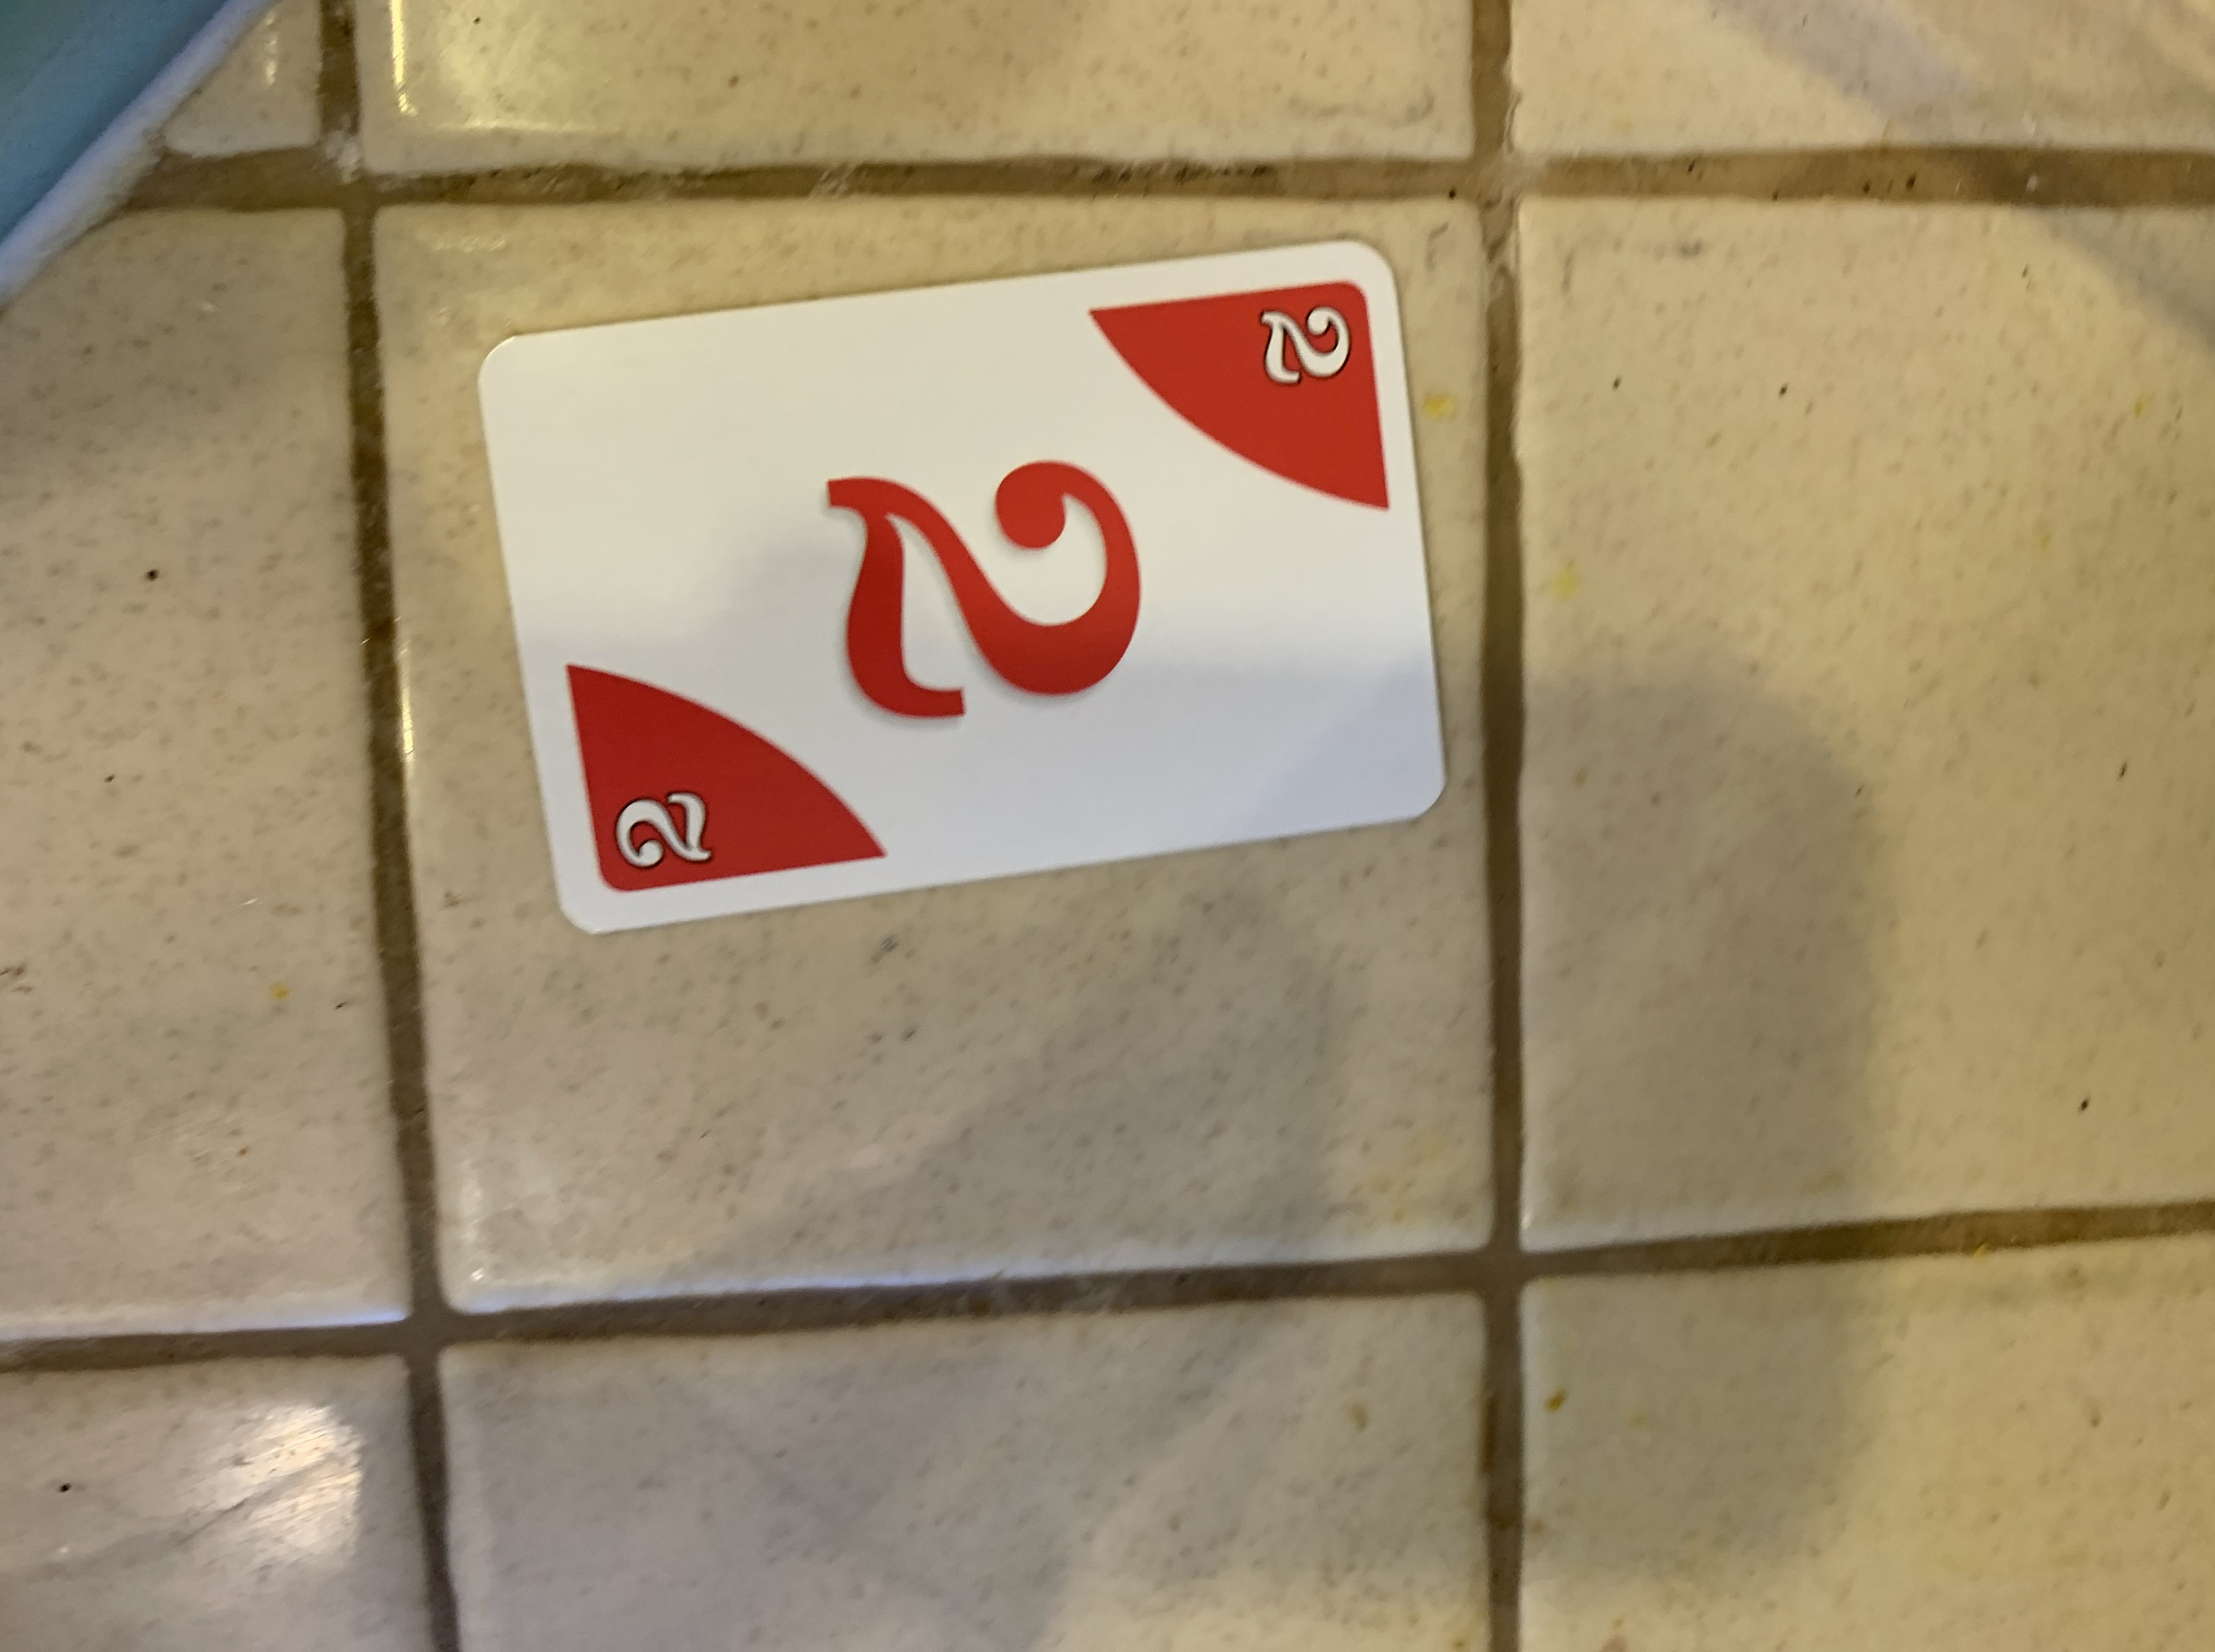two: (465, 227, 1469, 946)
